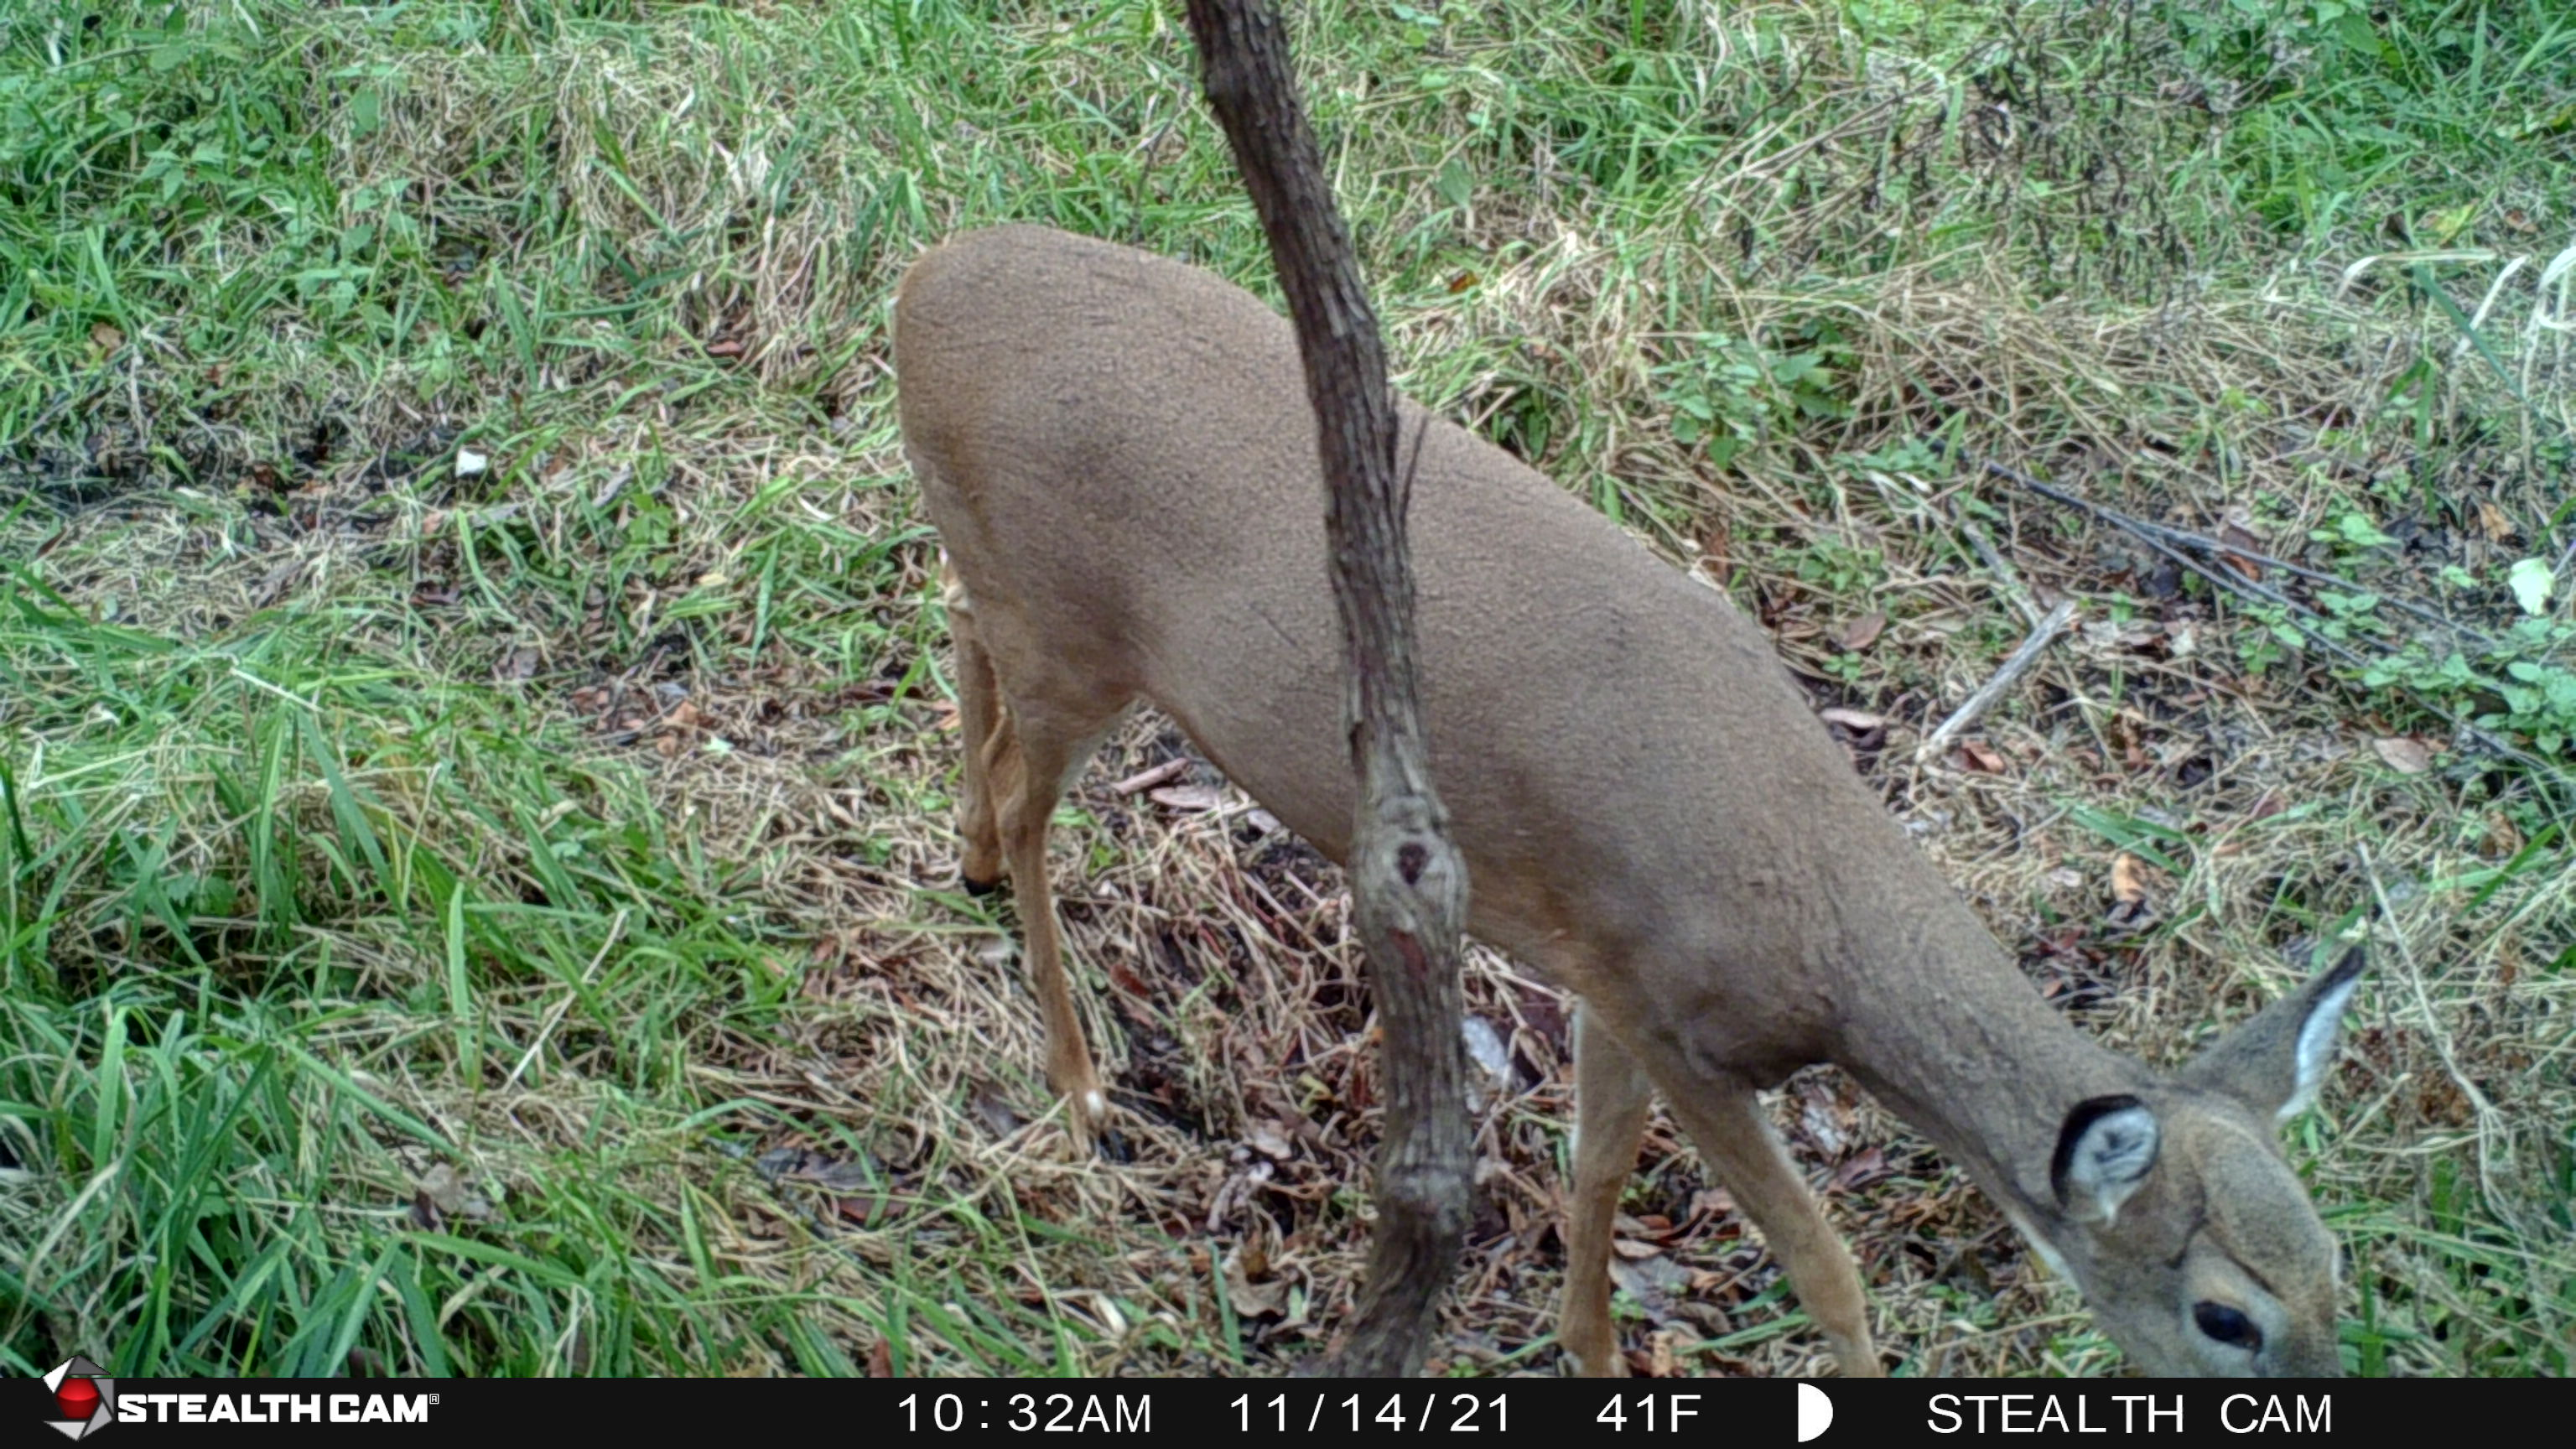DeerDoe: (888, 218, 2369, 1376)
